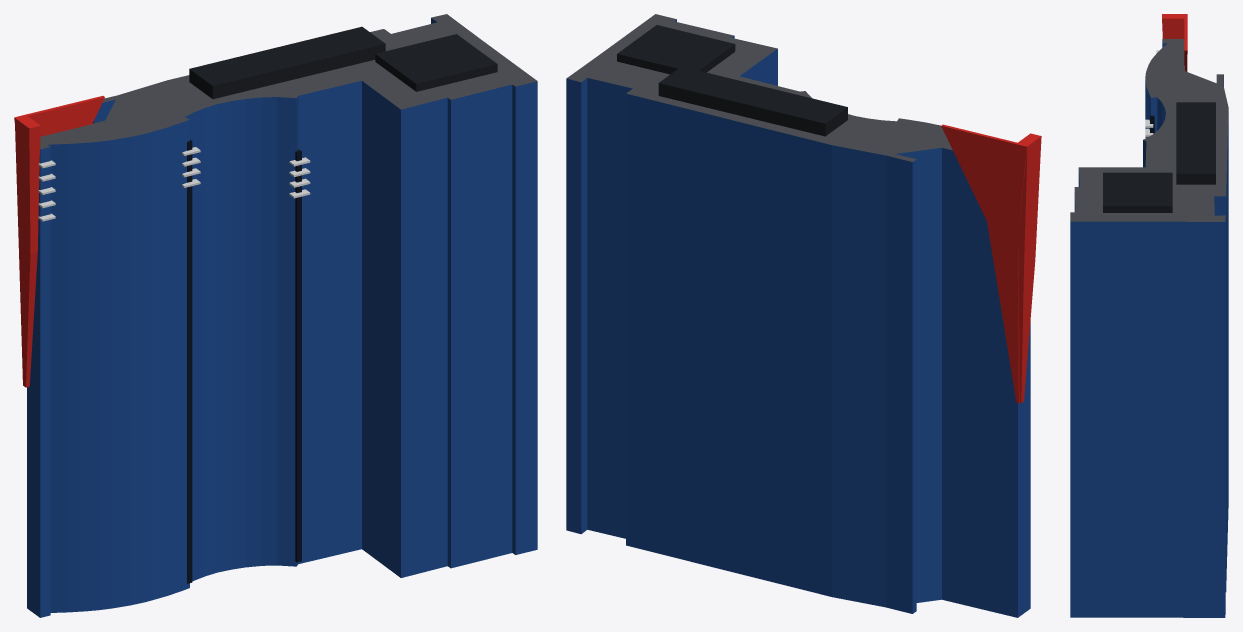
The model's file is elara.glb.
3 views of the same model, side by side, from view 1: azimuth 30°, elevation 25°; view 2: azimuth 150°, elevation 25°; view 3: azimuth 270°, elevation 25° (orthographic). The views are drawn at different scales.
Visible parts, largest first — view 1: Tower; view 2: Tower; view 3: Tower.
Part boxes in pixels (x1,y1,x2,y2): Tower: (14, 14, 537, 617); Tower: (566, 14, 1041, 617); Tower: (1070, 14, 1228, 617).
Bounding box in the file's own units: 179 × 185 × 63.75.
